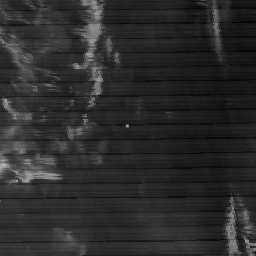Target: (124, 123, 130, 129)
